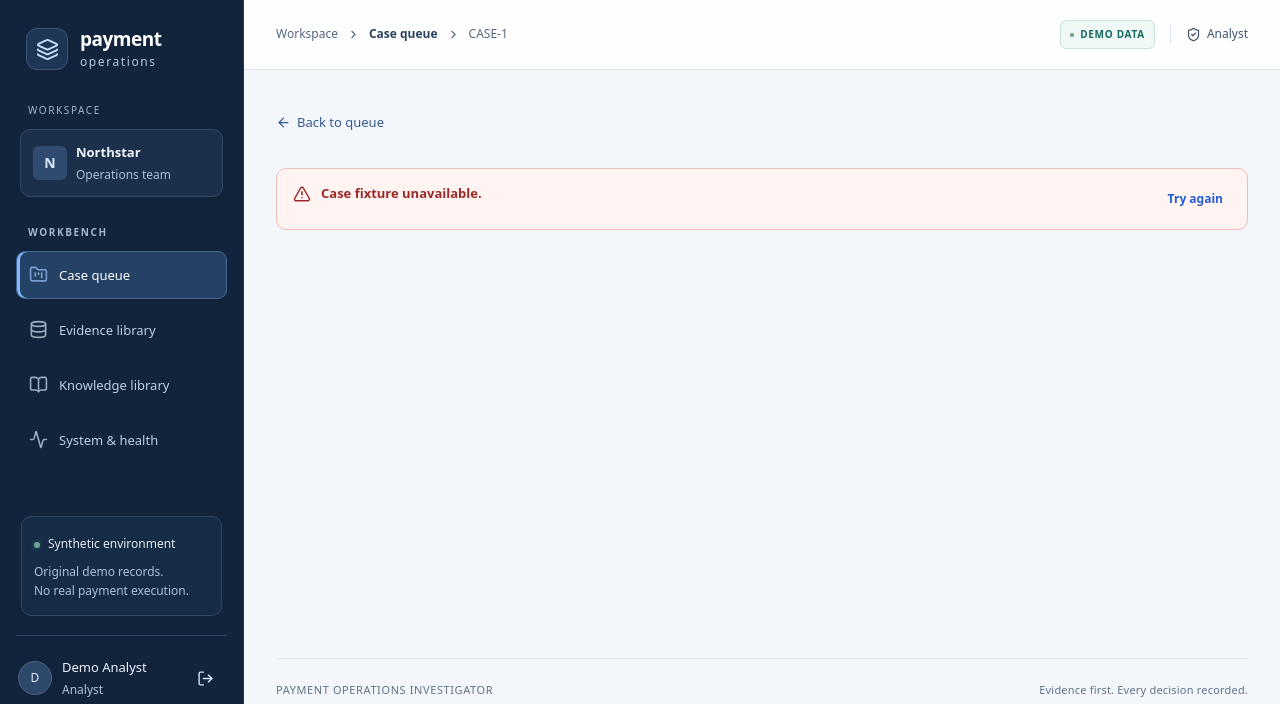
clean workspace paths and sign-in routing › preserves a direct legacy case but returns to the payment queue from its back link
Check: the text "Case fixture unavailable." is shown, box [321, 184, 482, 202]
Click the link "Back to queue": (330, 122) [276, 113, 384, 131]
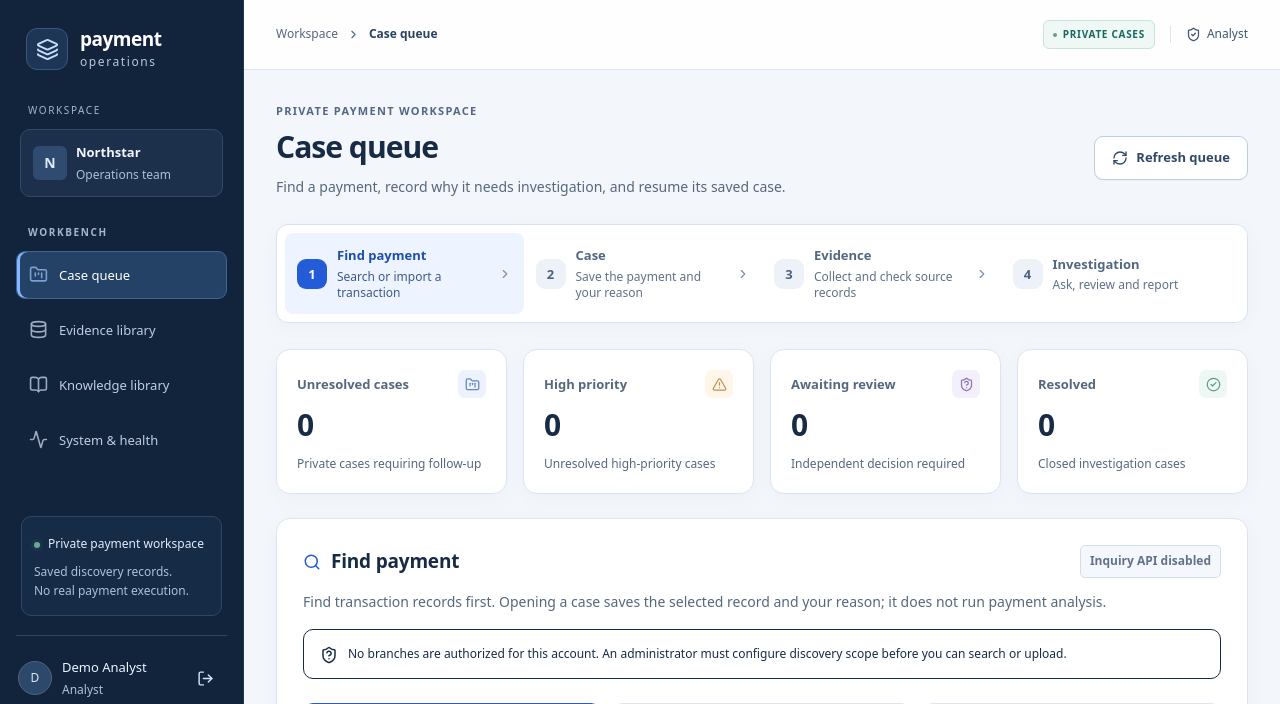
Check: the heading "Find payment" is shown, box [303, 548, 459, 575]
